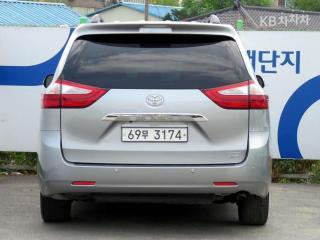1: (160, 129, 167, 140)
3: (153, 128, 162, 140)
4: (175, 130, 183, 140)
6: (127, 129, 135, 140)
7: (168, 129, 175, 140)
9: (135, 129, 142, 140)
plate: (116, 122, 193, 147)
무: (141, 129, 149, 140)
